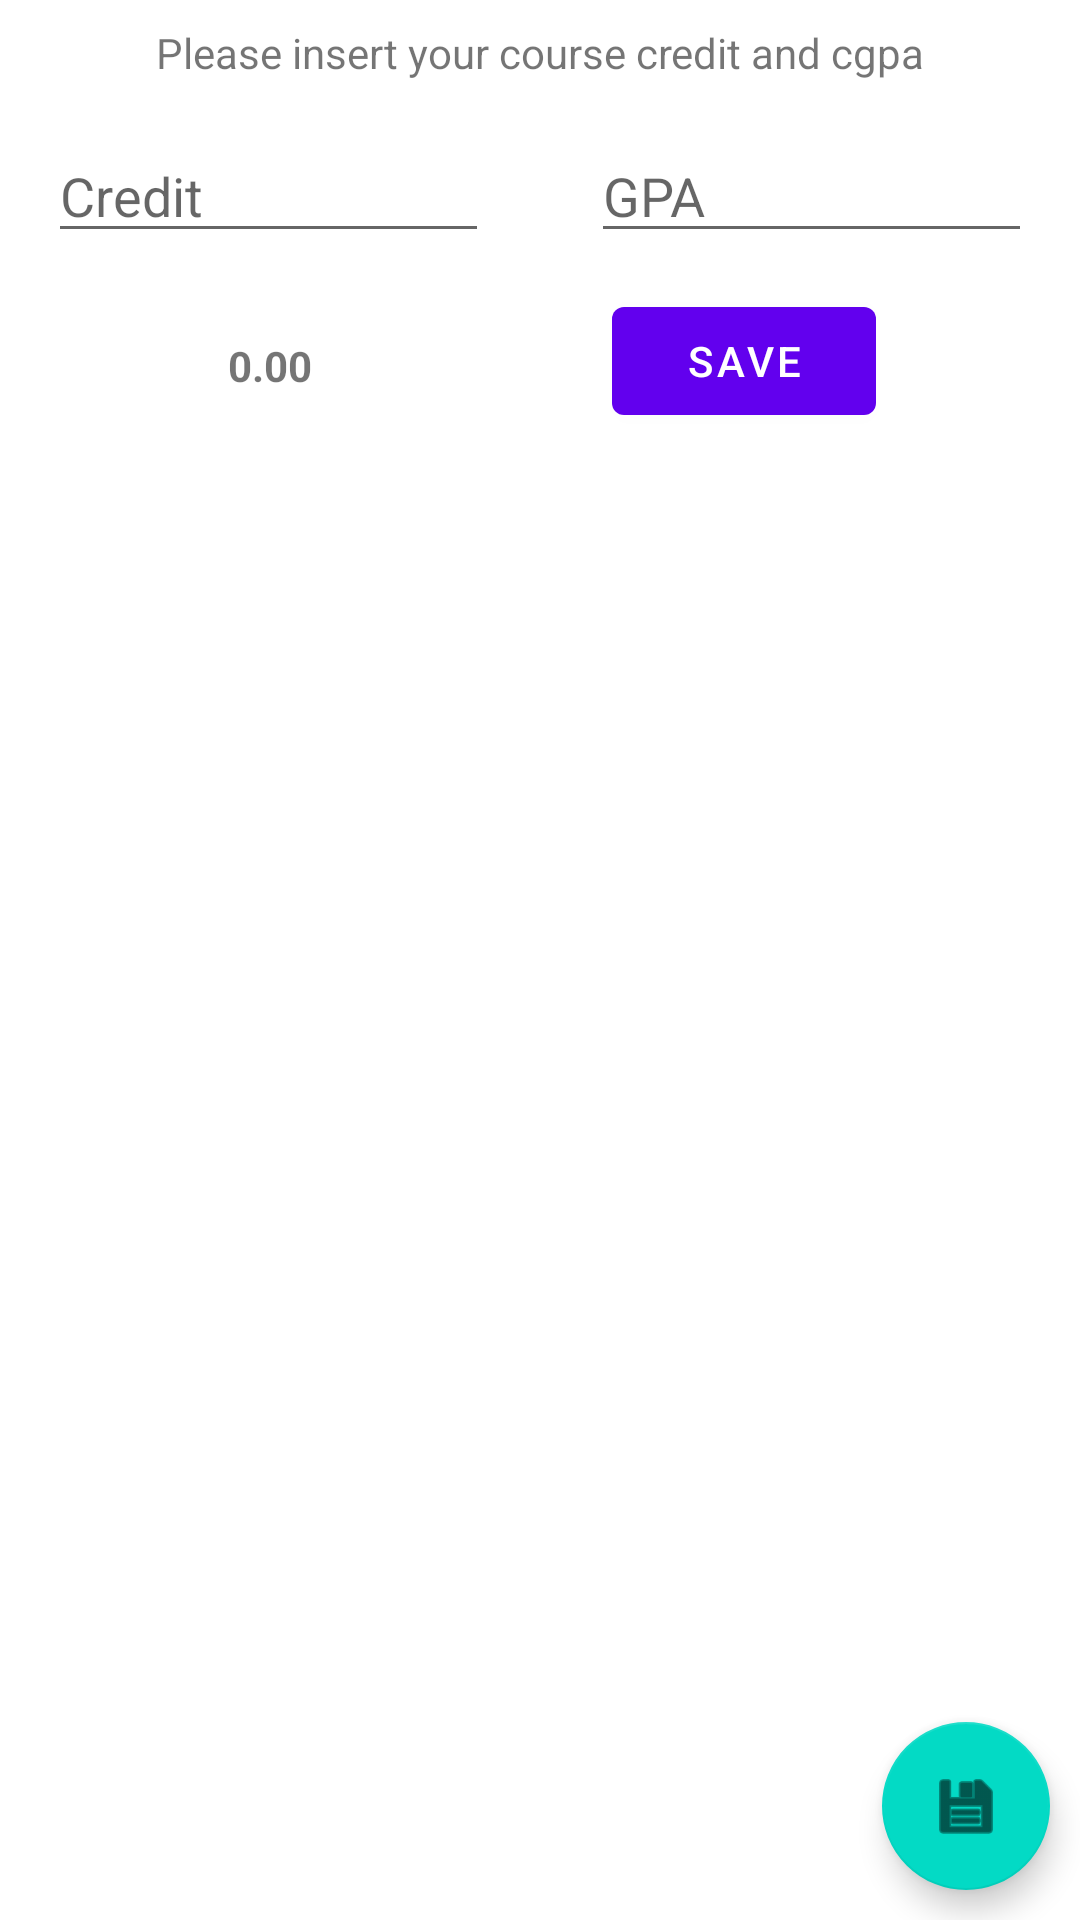

Icons on this 1080x1920 Android screen, each with the point to tap as [x,y]:
save: [966,1806]
